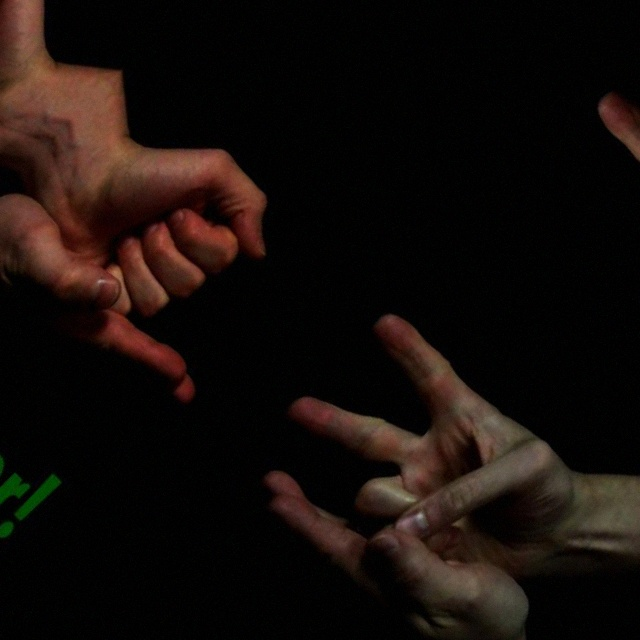Rock: (381, 0, 640, 18)
Scissors: (576, 0, 640, 329)
